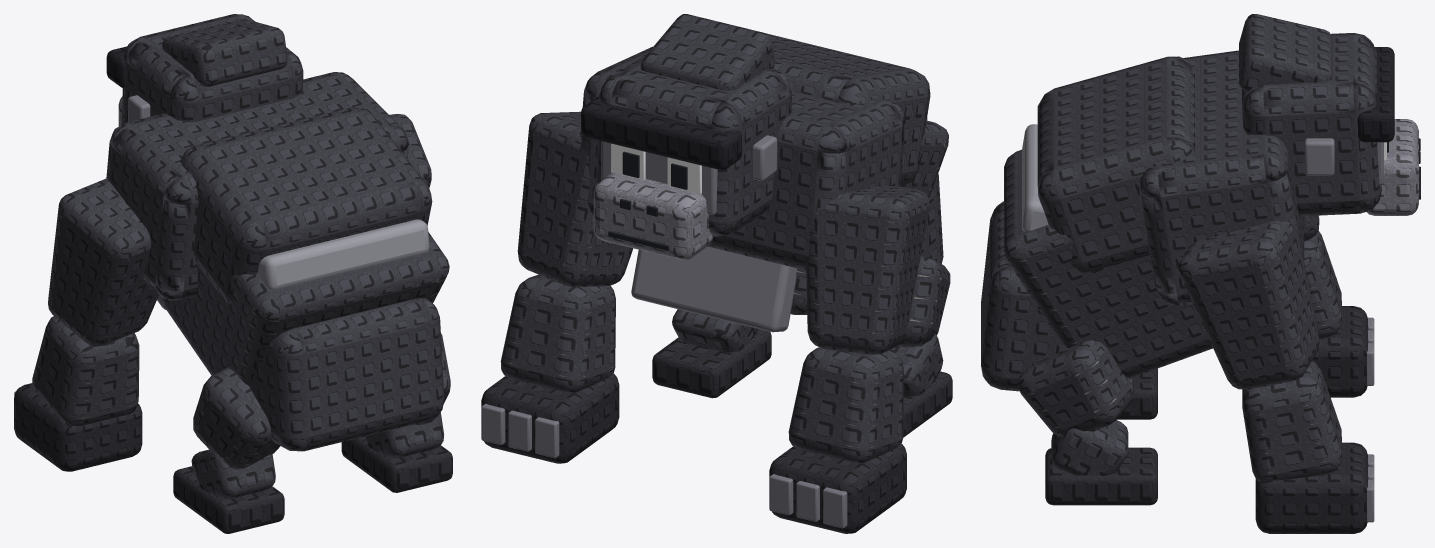
File: Gorilla.glb
The picture shows the model from 3 angles, left to right: view 1: azimuth 30°, elevation 25°; view 2: azimuth 150°, elevation 25°; view 3: azimuth 270°, elevation 25°; orthographic projection. The views are drawn at different scales.
Parts seen in each view (by area): view 1: Gorilla, Gorilla_Arm_L, Gorilla_Head, Gorilla_Leg_L, Gorilla_Leg_R, Gorilla_Arm_R; view 2: Gorilla, Gorilla_Head, Gorilla_Arm_L, Gorilla_Arm_R, Gorilla_Leg_R, Gorilla_Leg_L; view 3: Gorilla, Gorilla_Arm_R, Gorilla_Head, Gorilla_Leg_R, Gorilla_Arm_L, Gorilla_Leg_L.
Boxes of the visible parts, left/top/right/bottom form: Gorilla: left=106, top=72, right=449, bottom=451; Gorilla_Arm_L: left=14, top=178, right=158, bottom=471; Gorilla_Head: left=106, top=14, right=303, bottom=126; Gorilla_Leg_L: left=173, top=367, right=284, bottom=533; Gorilla_Leg_R: left=341, top=333, right=452, bottom=492; Gorilla_Arm_R: left=389, top=114, right=431, bottom=187; Gorilla: left=580, top=33, right=948, bottom=332; Gorilla_Head: left=581, top=14, right=791, bottom=259; Gorilla_Arm_L: left=769, top=185, right=929, bottom=533; Gorilla_Arm_R: left=481, top=111, right=633, bottom=463; Gorilla_Leg_R: left=652, top=309, right=771, bottom=398; Gorilla_Leg_L: left=889, top=256, right=952, bottom=437; Gorilla: left=981, top=50, right=1304, bottom=391; Gorilla_Arm_R: left=1178, top=220, right=1374, bottom=533; Gorilla_Head: left=1239, top=14, right=1420, bottom=216; Gorilla_Leg_R: left=1017, top=340, right=1157, bottom=505; Gorilla_Arm_L: left=1304, top=215, right=1374, bottom=397; Gorilla_Leg_L: left=1117, top=368, right=1157, bottom=419.
Size of the model in its own units: 5.65 by 6.11 by 5.86.
Materials: 1 (1 with a texture image).
